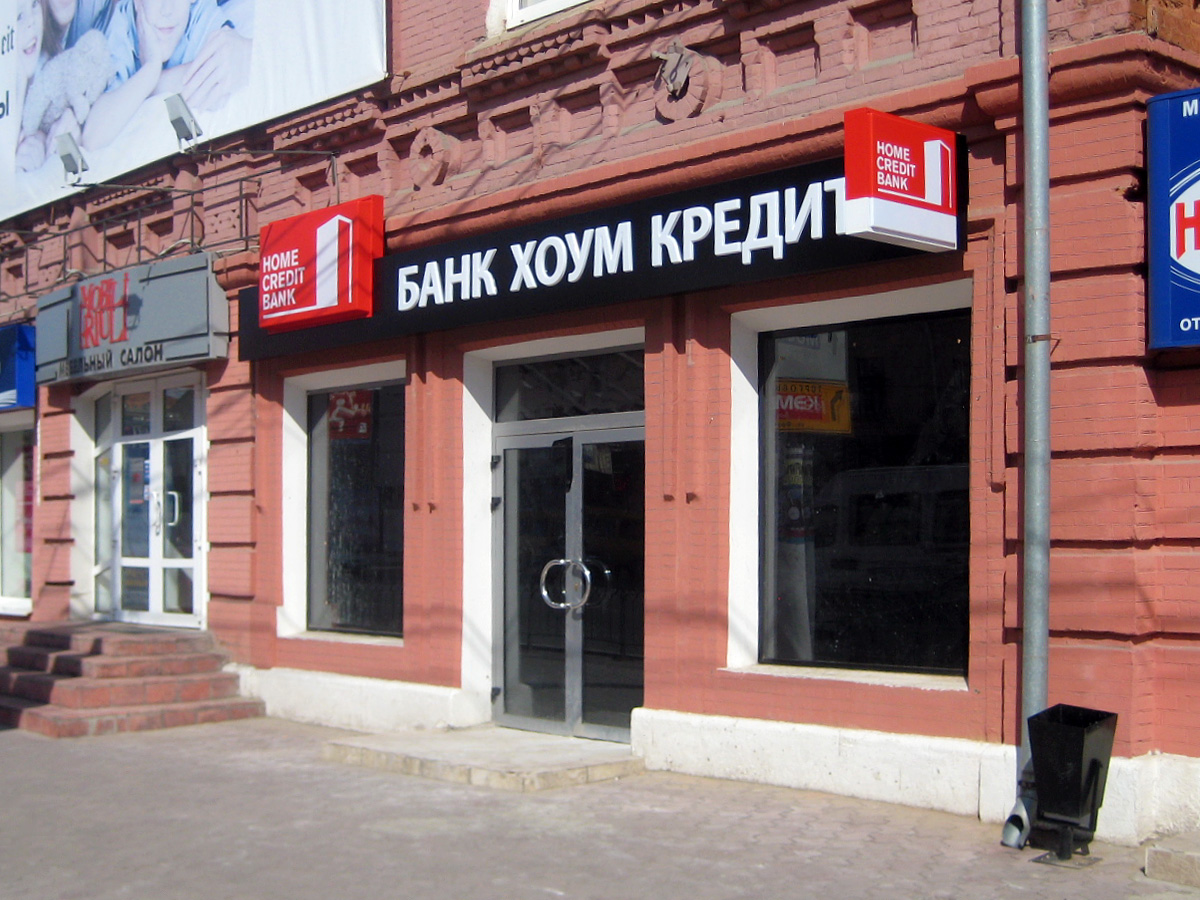cantilever: (843, 109, 969, 254)
door: (491, 429, 644, 763), (156, 431, 200, 625)
signboard: (391, 146, 839, 333), (38, 248, 217, 381), (256, 196, 382, 328)
window: (746, 306, 970, 669), (301, 378, 405, 631), (109, 378, 205, 626), (489, 348, 641, 425)
